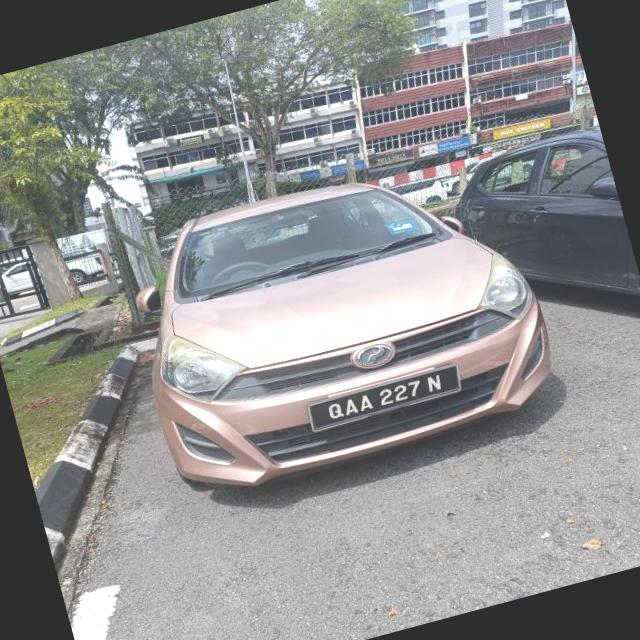PeroduaAxia: (109, 134, 568, 508)
